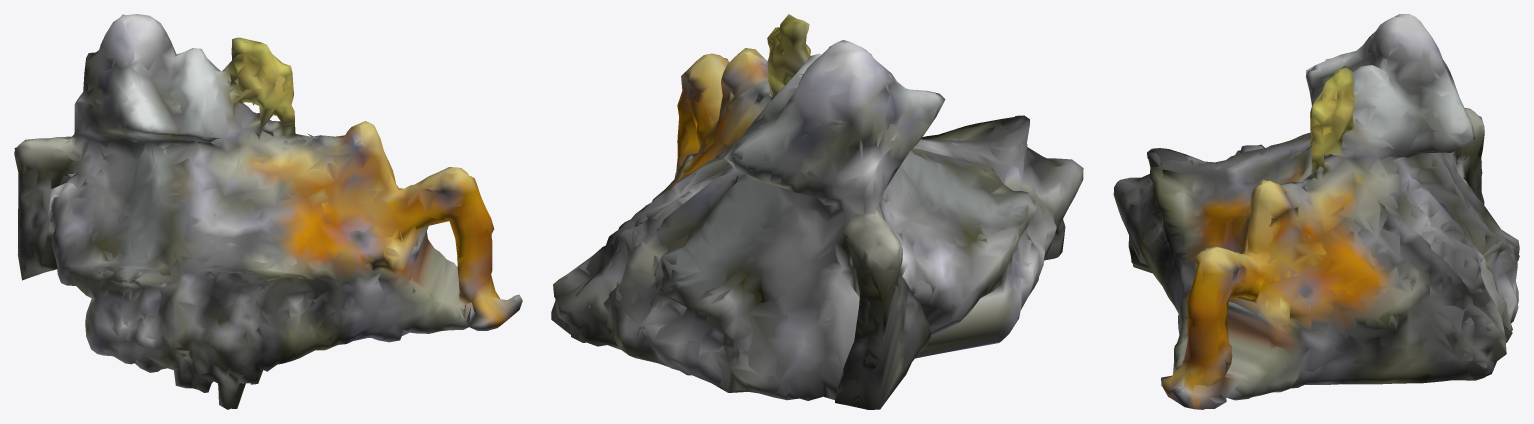
Rendered from tech_outpost.glb.
3 renders of one model, left to right at view 1: azimuth 30°, elevation 25°; view 2: azimuth 150°, elevation 25°; view 3: azimuth 270°, elevation 25°, orthographic. The views are drawn at different scales.
Visible parts, largest first — view 1: tech_outpost; view 2: tech_outpost; view 3: tech_outpost.
Part boxes in pixels (x1,y1,x2,y2): tech_outpost: (14, 14, 522, 409); tech_outpost: (551, 14, 1083, 409); tech_outpost: (1113, 14, 1519, 409).
Size of the model in its own units: 1.81 by 1.32 by 1.82.
